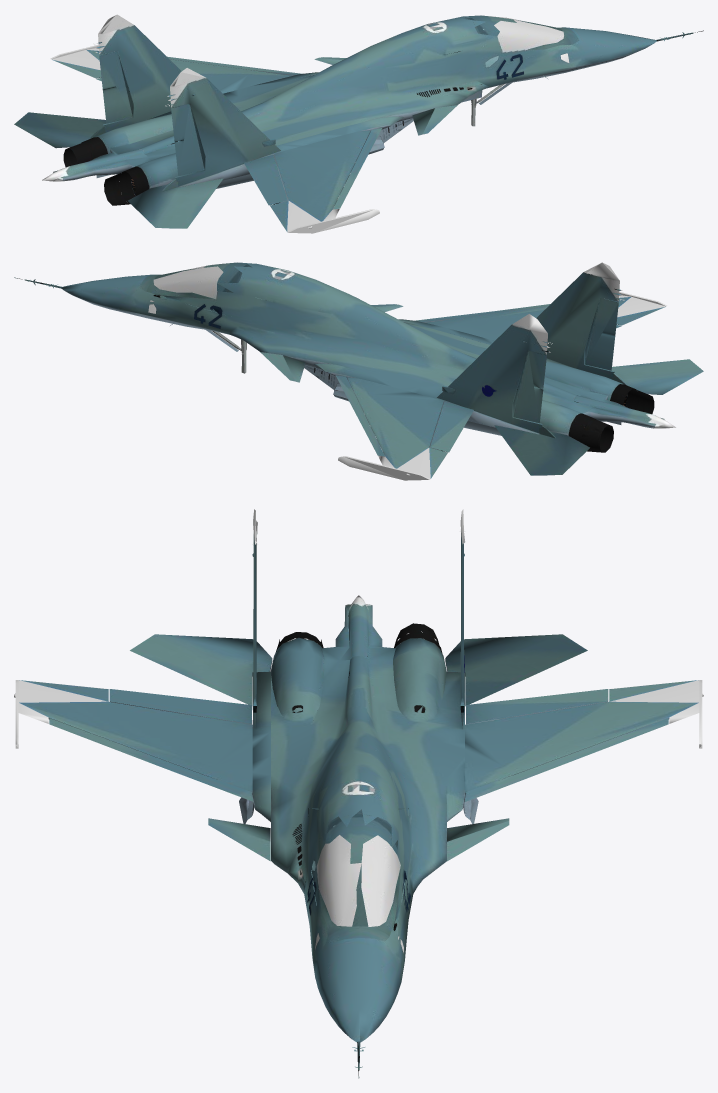
The picture shows the model from 3 angles, top to bottom: view 1: azimuth 30°, elevation 25°; view 2: azimuth 150°, elevation 25°; view 3: azimuth 270°, elevation 25°; orthographic projection. The views are drawn at different scales.
Parts seen in each view (by area): view 1: g_su34_hull; view 2: g_su34_hull; view 3: g_su34_hull.
Part boxes in pixels (bbox=[...]): g_su34_hull: bbox=[14, 14, 703, 233]; g_su34_hull: bbox=[14, 262, 703, 480]; g_su34_hull: bbox=[14, 509, 703, 1078].
Size of the model in its own units: 23.32 by 5.5 by 14.58.
2 materials, 1 textured.
